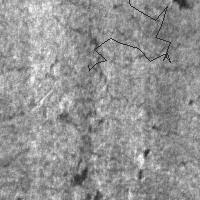crazing: (1, 63, 108, 124), (88, 0, 170, 70), (90, 23, 198, 74)
